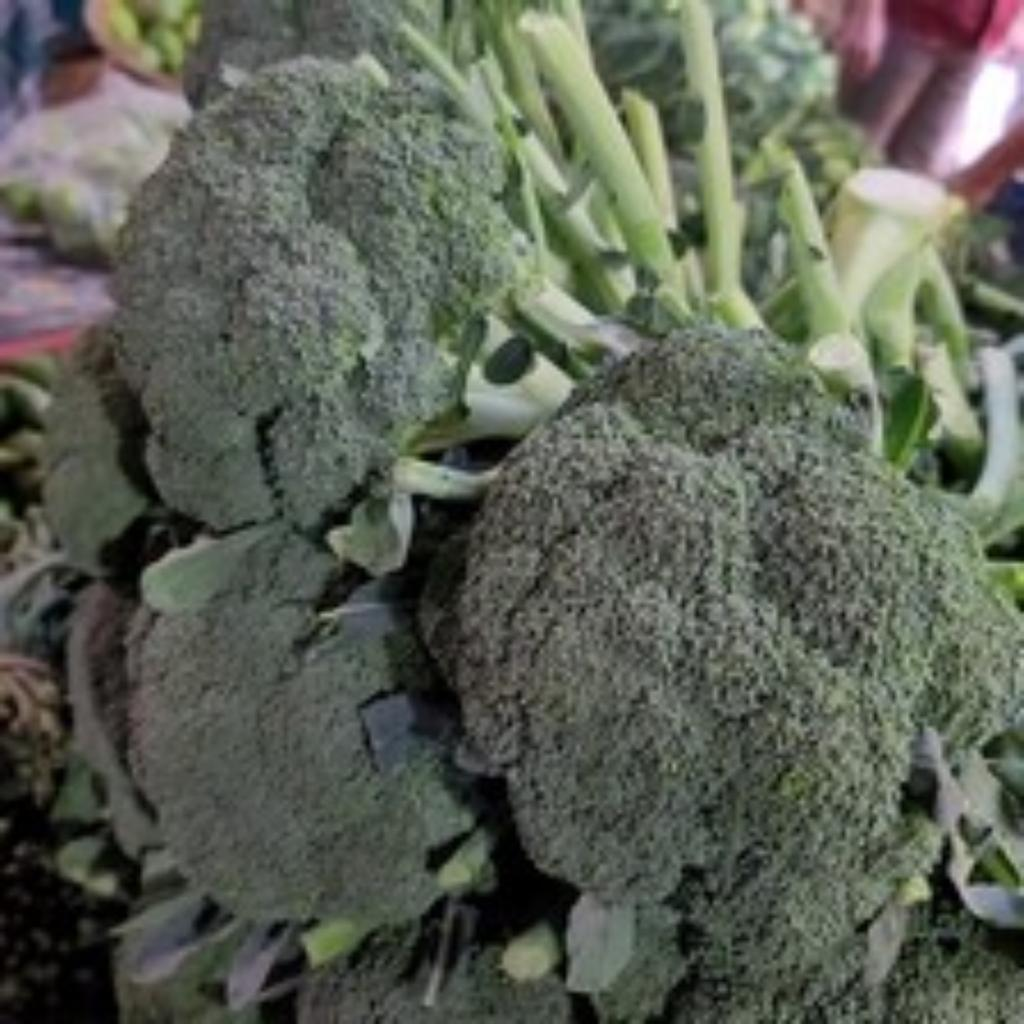Broccoli: (444, 326, 1024, 1024), (444, 330, 1024, 1024), (116, 58, 512, 530), (130, 522, 476, 929), (132, 526, 476, 929)
